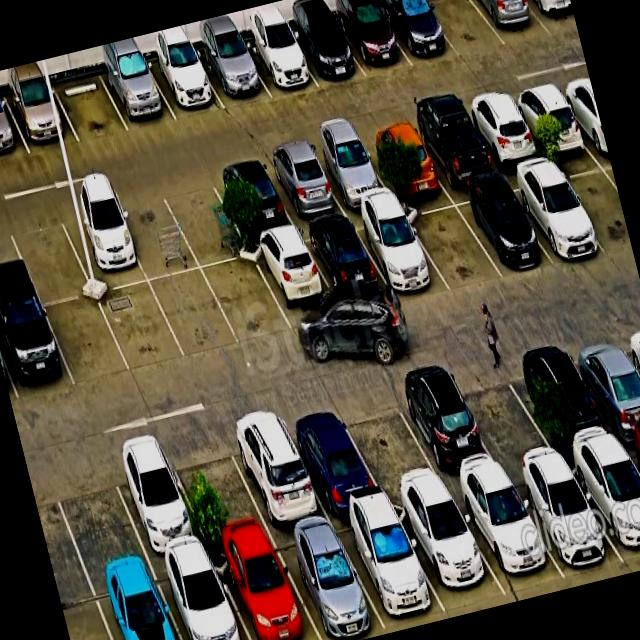car: (349, 512, 434, 636), (471, 482, 556, 606), (233, 433, 322, 550), (412, 500, 498, 620), (531, 466, 612, 590), (287, 527, 375, 640), (119, 464, 205, 576), (404, 381, 488, 495), (300, 422, 380, 538), (523, 343, 600, 458), (221, 543, 310, 640), (525, 162, 601, 272), (470, 177, 544, 282), (366, 203, 440, 307), (63, 190, 139, 290), (368, 108, 439, 212), (422, 100, 493, 204), (315, 212, 385, 316), (100, 34, 170, 138), (256, 232, 331, 328), (213, 154, 288, 248), (520, 76, 588, 178), (472, 91, 540, 192), (586, 450, 640, 577), (244, 0, 310, 99), (580, 337, 640, 444), (150, 23, 216, 120), (164, 563, 247, 640), (198, 10, 262, 108), (0, 307, 68, 399), (289, 0, 357, 89), (317, 130, 383, 220), (4, 58, 68, 150), (97, 578, 188, 640), (272, 142, 334, 228), (337, 0, 402, 77), (382, 0, 446, 66), (464, 0, 531, 38), (0, 70, 19, 164)
free: (56, 468, 146, 590), (180, 446, 262, 559), (351, 404, 436, 512), (464, 366, 542, 476), (414, 198, 492, 295), (52, 45, 123, 147), (100, 275, 173, 371), (122, 182, 192, 282), (50, 294, 124, 388), (172, 168, 242, 264), (13, 218, 85, 308), (206, 252, 276, 342), (156, 264, 223, 351), (424, 0, 491, 54)
